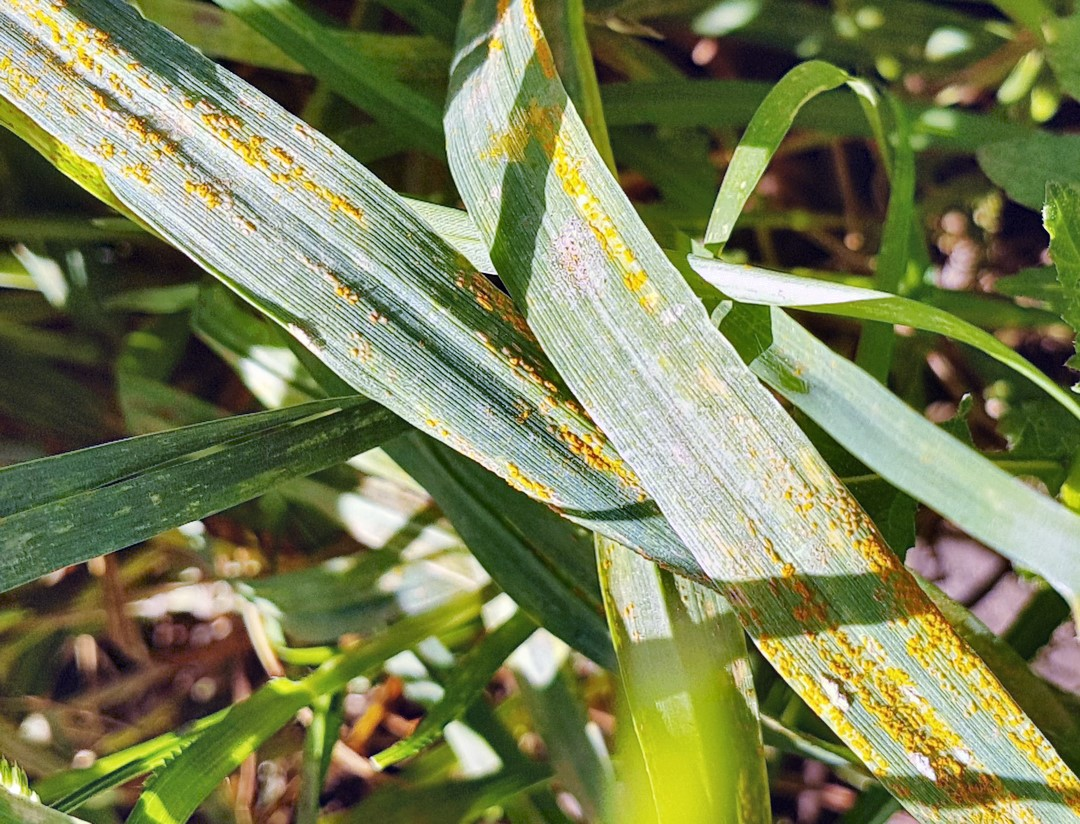Leaf Rust: (710, 487, 1080, 824)
